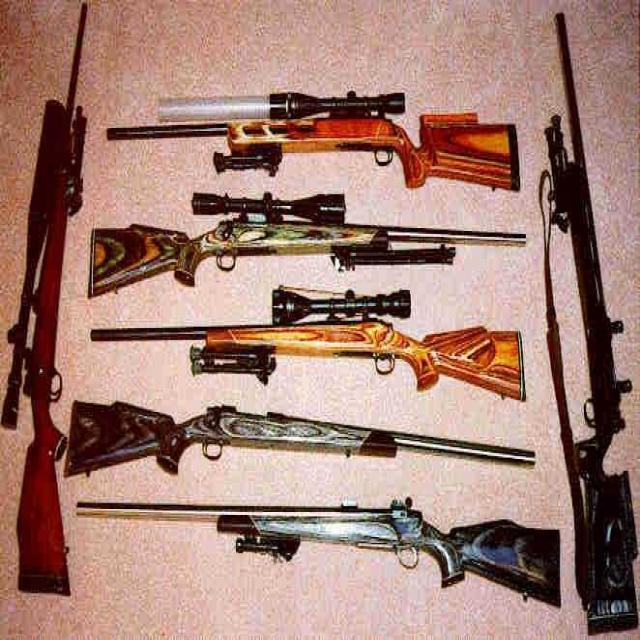weapon: (48, 485, 567, 640), (532, 1, 640, 629), (0, 0, 102, 628), (90, 274, 532, 411), (49, 382, 544, 486), (103, 91, 531, 210), (67, 194, 536, 299)
